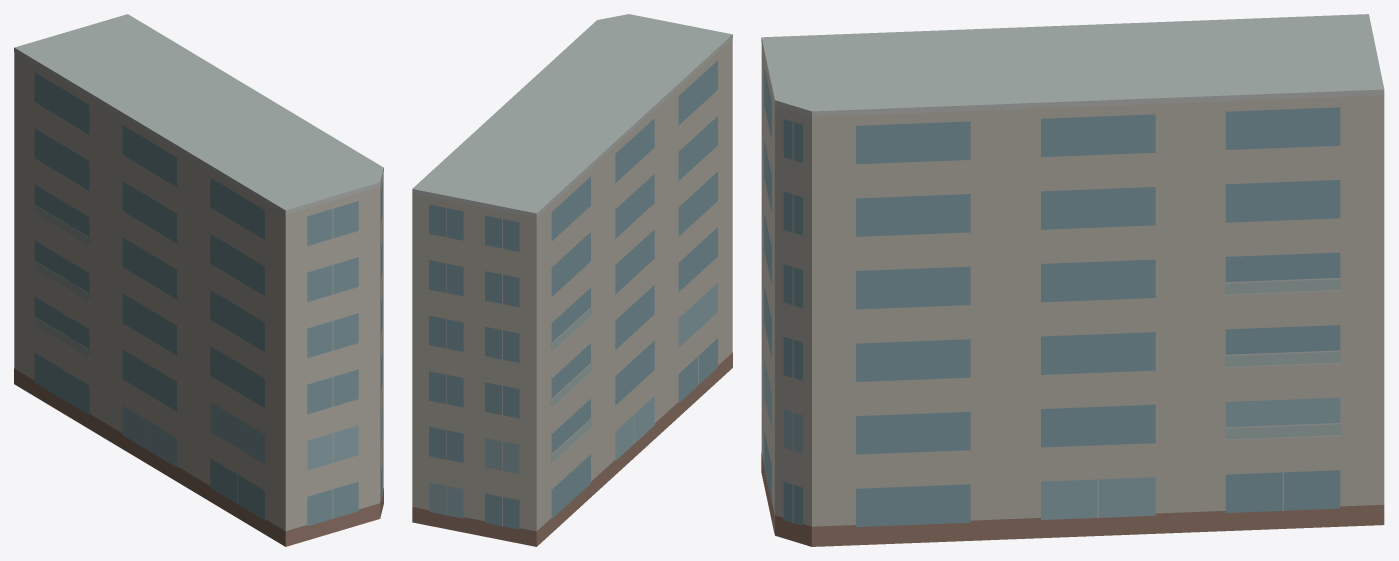
The model's file is survey-upis-32636094.glb.
3 renders of one model, left to right at view 1: azimuth 30°, elevation 25°; view 2: azimuth 150°, elevation 25°; view 3: azimuth 270°, elevation 25°, orthographic. The views are drawn at different scales.
Visible parts, largest first — view 1: survey-upis-32636094.tmp; view 2: survey-upis-32636094.tmp; view 3: survey-upis-32636094.tmp.
Part boxes in pixels (box(x1,y1,x2,y2)): survey-upis-32636094.tmp: box(14, 14, 383, 546); survey-upis-32636094.tmp: box(412, 14, 732, 546); survey-upis-32636094.tmp: box(761, 14, 1384, 546).
Size of the model in its own units: 9.13 by 19 by 24.64.
